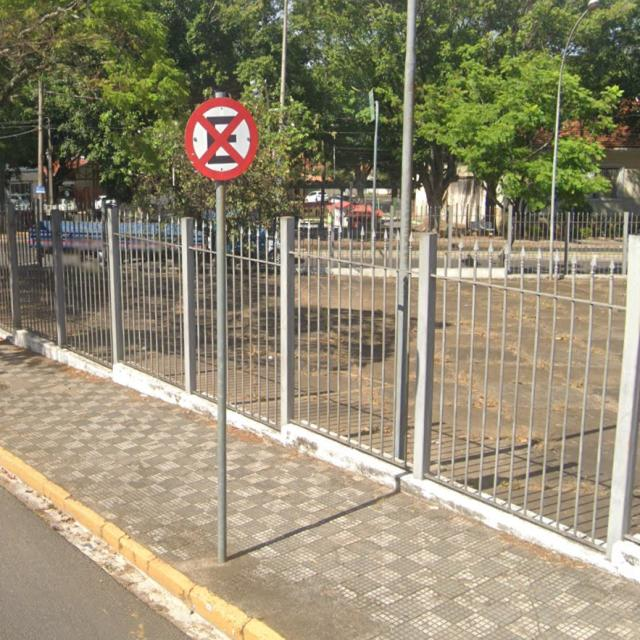no parking: (174, 88, 272, 194)
